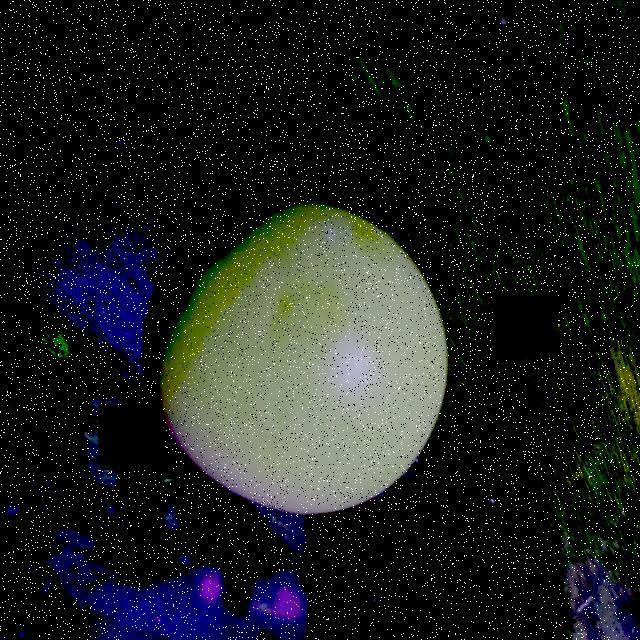egg: (137, 190, 449, 518)
